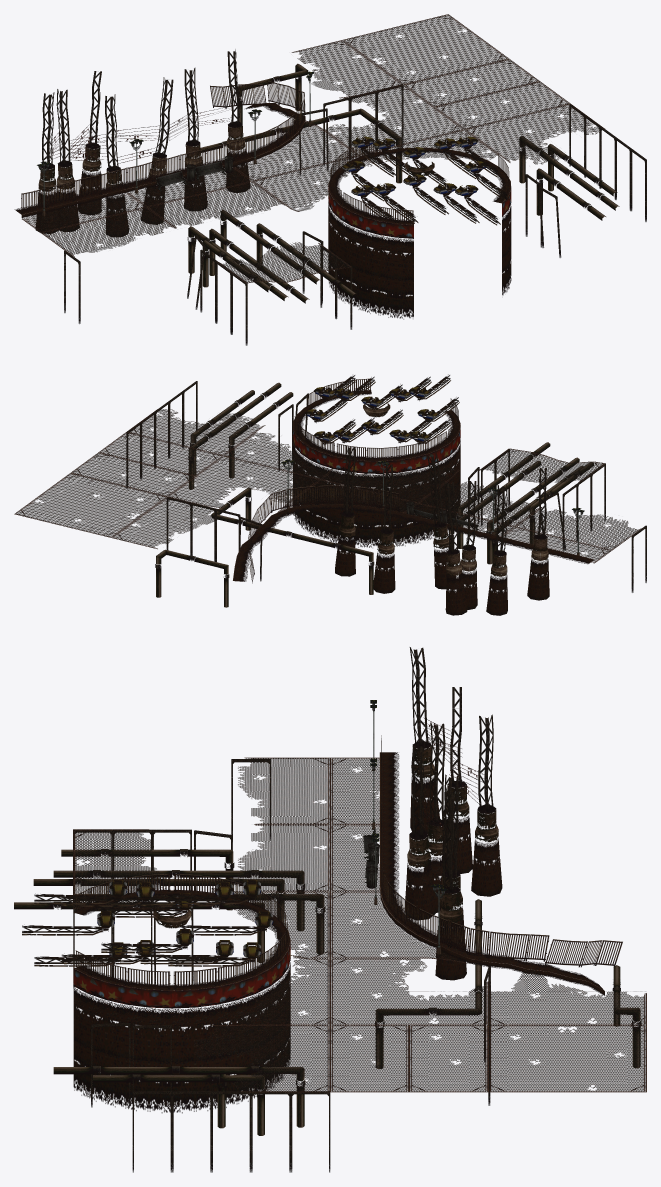
Rendered from APUFFFE.glb.
The picture shows the model from 3 angles, top to bottom: view 1: azimuth 30°, elevation 25°; view 2: azimuth 150°, elevation 25°; view 3: azimuth 270°, elevation 25°; orthographic projection. The views are drawn at different scales.
Parts seen in each view (by area): view 1: APUG01_B_m0, A3U_BACK_m0, F4_BACK0_m0, F7_BACK0_m0, F2_BACK0_m0, F1_BACK0_m0, APUG02_B_m0, F11_BACK_m0, F10_BACK_m0, APUG02_B#1_m0, F12_BACK_m0, F6_BACK0_m0 (+21 smaller); view 2: A1U_BACK_m0, APUG01_B_m0, F4_BACK0_m0, F7_BACK0_m0, F1_BACK0_m0, APUG02_B_m0, F11_BACK_m0, APUG02_B#1_m0, A2U_BACK_m0, F12_BACK_m0, F10_BACK_m0, F2_BACK0_m0 (+21 smaller); view 3: APUG01_B_m0, A2U_BACK_m0, A4U_BACK_m0, F4_BACK0_m0, F2_BACK0_m0, F7_BACK0_m0, F1_BACK0_m0, F11_BACK_m0, APUG02_B_m0, F10_BACK_m0, APUG02_B#1_m0, F12_BACK_m0 (+20 smaller).
Boxes of the visible parts, box(x1,y1,x2,y2) form: APUG01_B_m0: box(342, 14, 509, 84); A3U_BACK_m0: box(340, 220, 413, 319); F4_BACK0_m0: box(325, 85, 464, 154); F7_BACK0_m0: box(464, 103, 604, 164); F2_BACK0_m0: box(233, 113, 358, 181); F1_BACK0_m0: box(291, 40, 403, 98); APUG02_B_m0: box(404, 59, 539, 106); F11_BACK_m0: box(41, 207, 175, 256); F10_BACK_m0: box(147, 181, 285, 228); APUG02_B#1_m0: box(434, 81, 570, 129); F12_BACK_m0: box(217, 242, 351, 283); F6_BACK0_m0: box(14, 184, 146, 232); A1U_BACK_m0: box(334, 457, 449, 547); APUG01_B_m0: box(14, 473, 167, 537); F4_BACK0_m0: box(168, 456, 320, 508); F7_BACK0_m0: box(127, 409, 265, 455); F1_BACK0_m0: box(111, 497, 222, 549); APUG02_B_m0: box(70, 452, 194, 496); F11_BACK_m0: box(515, 507, 641, 550); APUG02_B#1_m0: box(98, 432, 222, 475); A2U_BACK_m0: box(293, 442, 334, 542); F12_BACK_m0: box(478, 448, 605, 482); F10_BACK_m0: box(419, 481, 541, 526); F2_BACK0_m0: box(264, 479, 416, 525); APUG01_B_m0: box(488, 1025, 646, 1092); A2U_BACK_m0: box(172, 960, 290, 1113); A4U_BACK_m0: box(73, 987, 171, 1113); F4_BACK0_m0: box(330, 958, 488, 1025); F2_BACK0_m0: box(330, 886, 488, 966); F7_BACK0_m0: box(194, 1025, 330, 1092); F1_BACK0_m0: box(488, 968, 646, 1025); F11_BACK_m0: box(238, 757, 330, 824); APUG02_B_m0: box(409, 1025, 488, 1092); F10_BACK_m0: box(237, 824, 330, 891); APUG02_B#1_m0: box(330, 1025, 409, 1092); F12_BACK_m0: box(73, 829, 165, 908).
Size of the model in its own units: 40.04 by 13.66 by 32.02.
20 materials, 20 textured.
